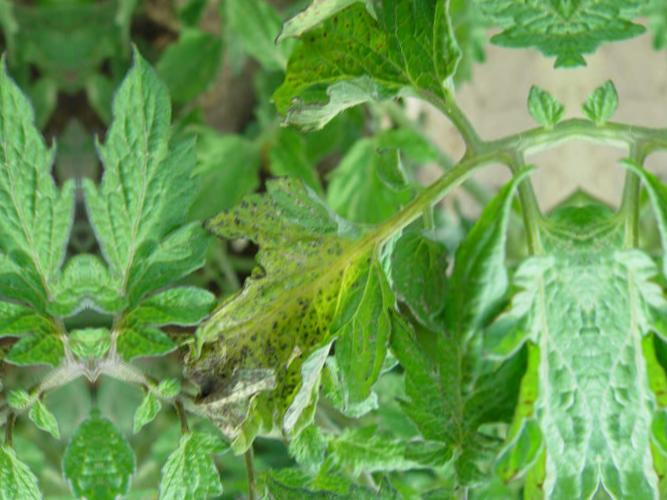Tomato leaf bacterial spot: (158, 164, 423, 479), (70, 37, 237, 379), (222, 0, 495, 151)
